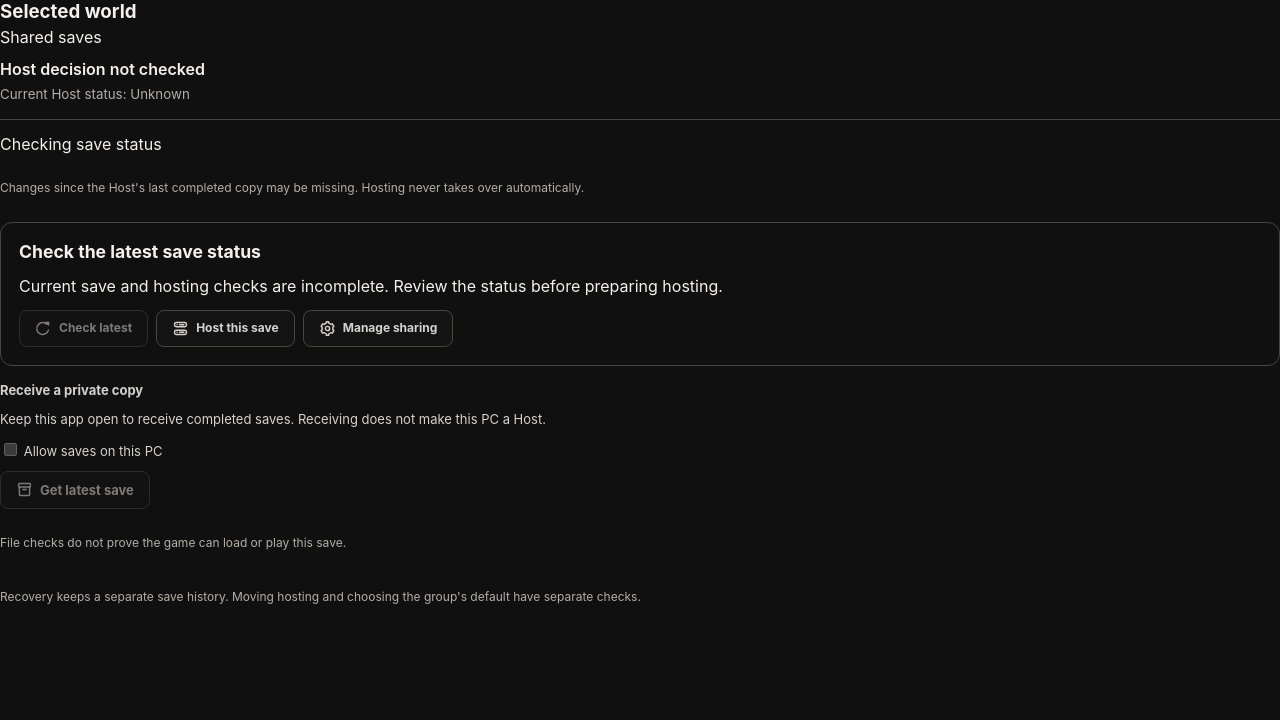
Test: Shared saves guided workflow › keeps consent and verified transfer mandatory inside the hosting guide
Click the button "Host this save" at (225,328), box [156,310,295,347]
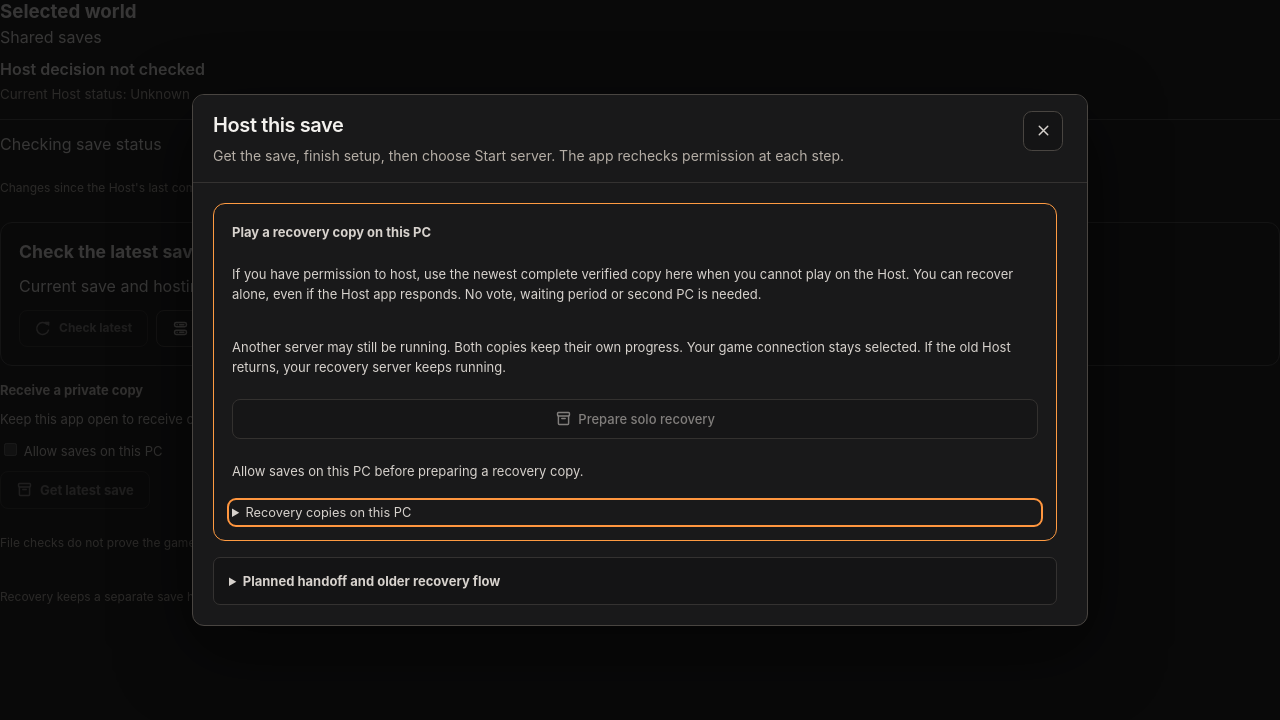
Click the heading "Planned handoff and older recovery flow" at (372,581), box [243,573,500,589]
(page scrolled)
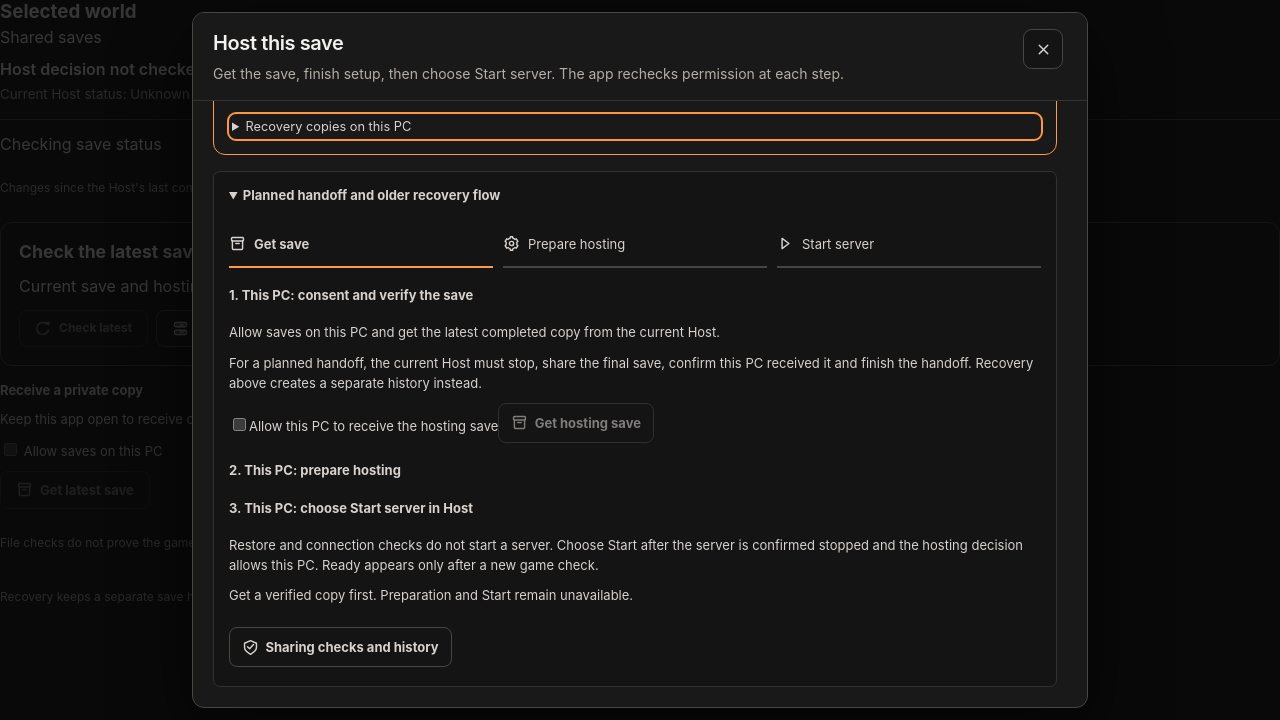
Now the button "Get hosting save" is disabled, box [498,403,654,443]
Click the checkbox labelled "Allow this PC to receive the hosting save" at (240,425), box [233,418,246,431]
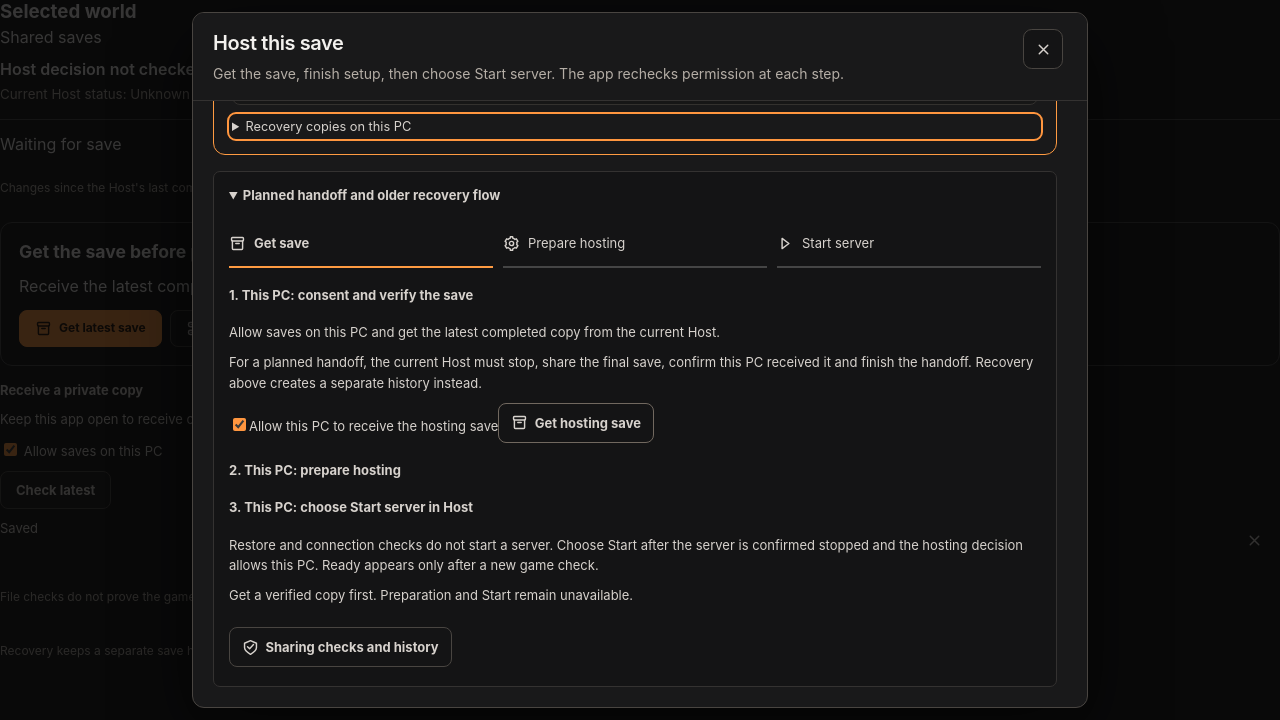
Now the button "Get hosting save" is enabled, box [498,403,654,443]
